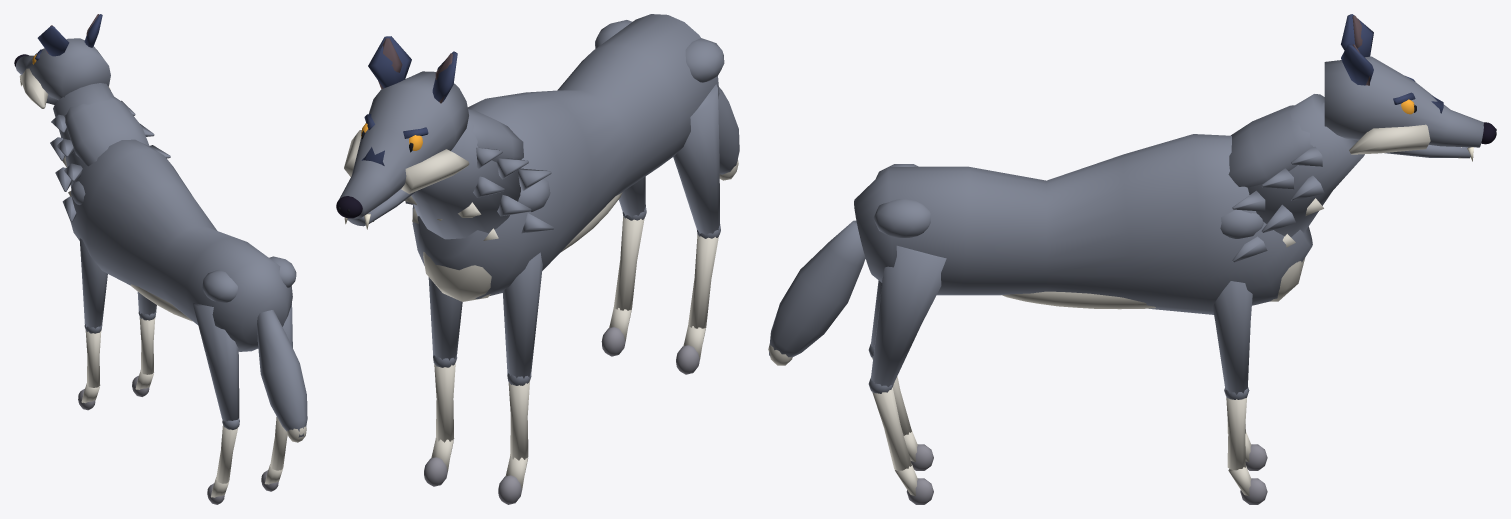
The model's file is beast_wolf.glb.
3 views of the same model, side by side, from view 1: azimuth 30°, elevation 25°; view 2: azimuth 150°, elevation 25°; view 3: azimuth 270°, elevation 25° (orthographic). The views are drawn at different scales.
Visible parts, largest first — view 1: body, neck, tail, head, leg_br, leg_fr, shin_br, shin_fr, shin_fl, shin_bl, ear_r, leg_fl (+1 smaller); view 2: body, head, neck, leg_br, leg_fr, shin_br, shin_bl, shin_fr, shin_fl, leg_fl, tail, ear_l (+3 smaller); view 3: body, neck, head, tail, leg_bl, leg_fl, shin_bl, shin_fl, shin_br, ear_r, ear_l.
Boxes of the visible parts, x1,y1,x2,y2 form: body: (70,139,296,351); neck: (50,83,170,221); tail: (257,310,307,442); head: (14,38,110,108); leg_br: (193,303,239,429); leg_fr: (79,238,107,333); shin_br: (207,425,238,504); shin_fr: (78,330,101,410); shin_fl: (132,317,155,396); shin_bl: (261,416,287,491); ear_r: (37,25,69,56); leg_fl: (137,292,156,320); body: (412,14,724,298); head: (336,71,469,229); neck: (404,109,553,301); leg_br: (673,84,720,238); leg_fr: (502,252,542,385); shin_br: (676,234,718,374); shin_bl: (601,216,644,356); shin_fr: (498,381,529,504); shin_fl: (424,363,455,486); leg_fl: (428,277,462,367); tail: (718,87,739,180); ear_l: (368,36,411,89); body: (854,134,1312,314); neck: (1228,94,1364,301); head: (1324,56,1496,161); tail: (768,220,865,365); leg_bl: (868,245,946,393); leg_fl: (1213,281,1252,399); shin_bl: (872,387,933,504); shin_fl: (1226,397,1267,504); shin_br: (872,358,933,470); ear_r: (1341,14,1373,57); ear_l: (1341,44,1373,85).
Size of the model in its own units: 0.4164 by 1.38 by 1.99.
